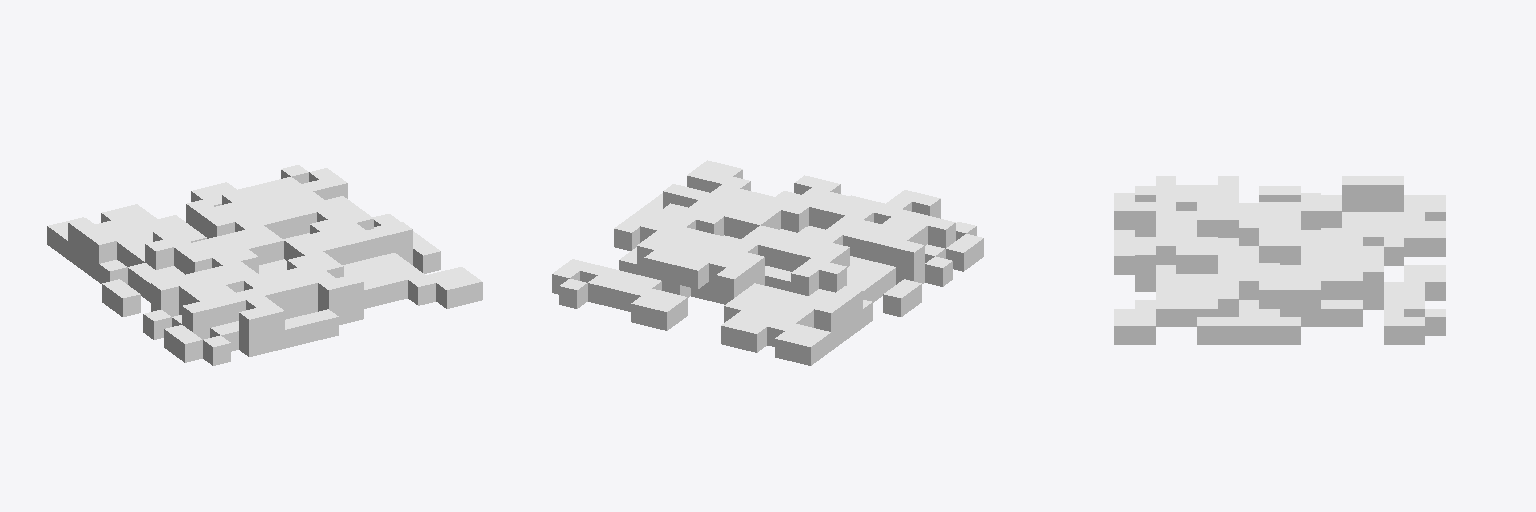
The model's file is path_no_grass.obj.
3 renders of one model, left to right at view 1: azimuth 30°, elevation 25°; view 2: azimuth 150°, elevation 25°; view 3: azimuth 270°, elevation 25°, orthographic.
Parts seen in each view (by area): view 1: object 1; view 2: object 1; view 3: object 1.
Boxes of the visible parts, x1=… form: object 1: x1=47, y1=165, x2=482, y2=365; object 1: x1=552, y1=160, x2=983, y2=365; object 1: x1=1114, y1=176, x2=1445, y2=344.
Size of the model in its own units: 1.6 by 0.2 by 1.6.